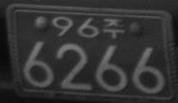2: (56, 42, 92, 90)
6: (132, 47, 165, 95), (95, 45, 128, 92), (23, 40, 54, 88), (76, 17, 100, 38)
9: (51, 15, 73, 36)
주: (103, 17, 125, 39)
